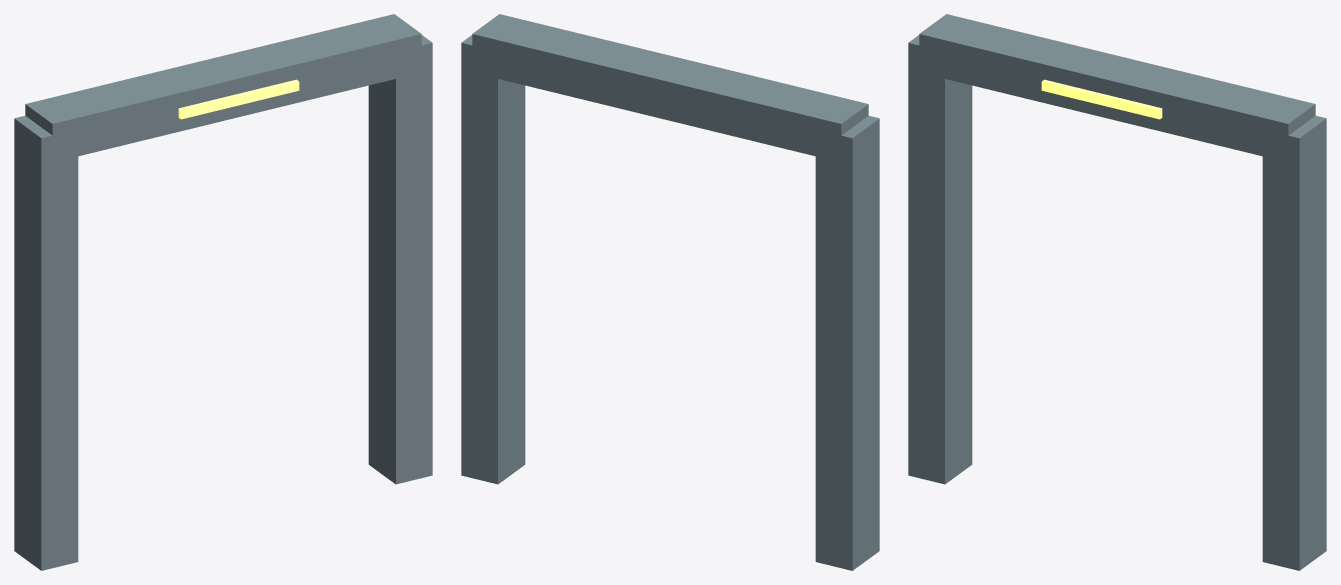
File: Mine_Support.glb
The picture shows the model from 3 angles, left to right: view 1: azimuth 30°, elevation 25°; view 2: azimuth 150°, elevation 25°; view 3: azimuth 330°, elevation 25°; orthographic projection.
Parts seen in each view (by area): view 1: Mine_Support; view 2: Mine_Support; view 3: Mine_Support.
Part boxes in pixels (x1,y1,x2,y2): Mine_Support: [14, 14, 432, 570]; Mine_Support: [461, 14, 879, 570]; Mine_Support: [908, 14, 1326, 570].
Size of the model in its own units: 2.65 by 2.88 by 0.355.
